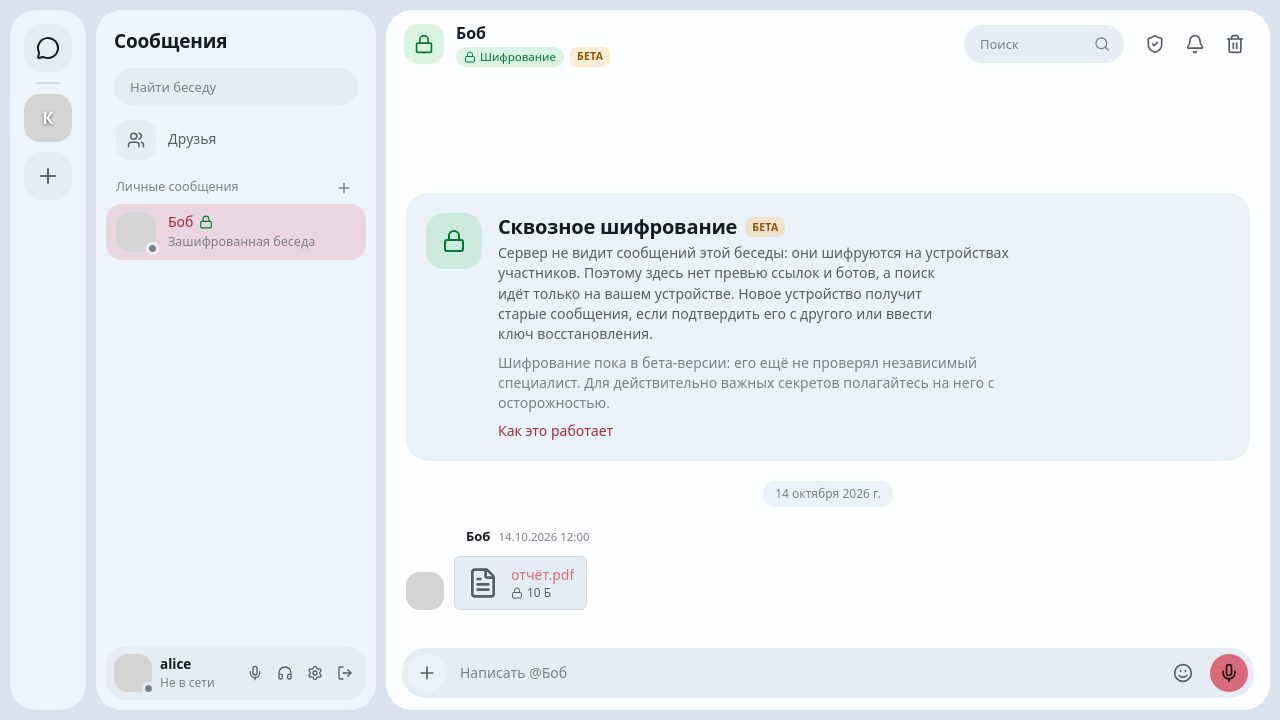
Scenario: files in encrypted conversations › say they are decrypting once the whole file is here
The width and height of the screenshot is (1280, 720).
Click the button "отчёт.pdf 10 Б". click: click(521, 583)
box: 454,556 -> 587,610
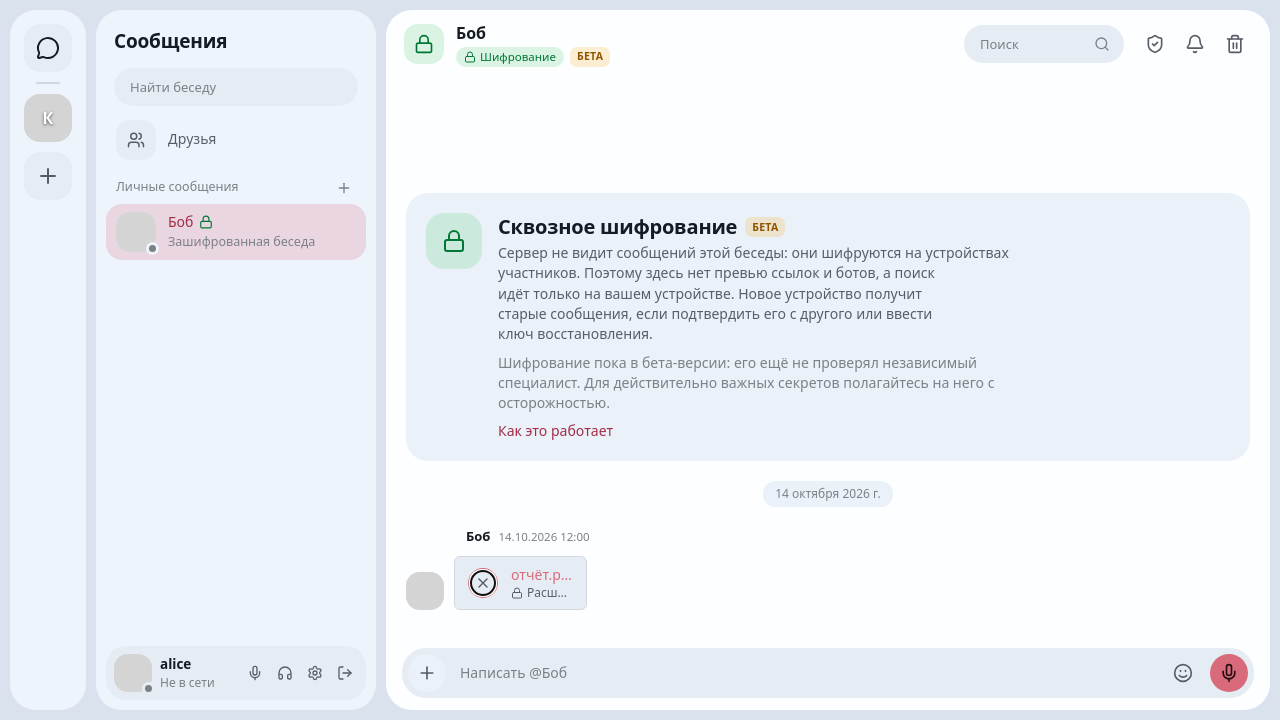
Expected: the text "Расшифровка…" is shown, 527,585 -> 574,601
